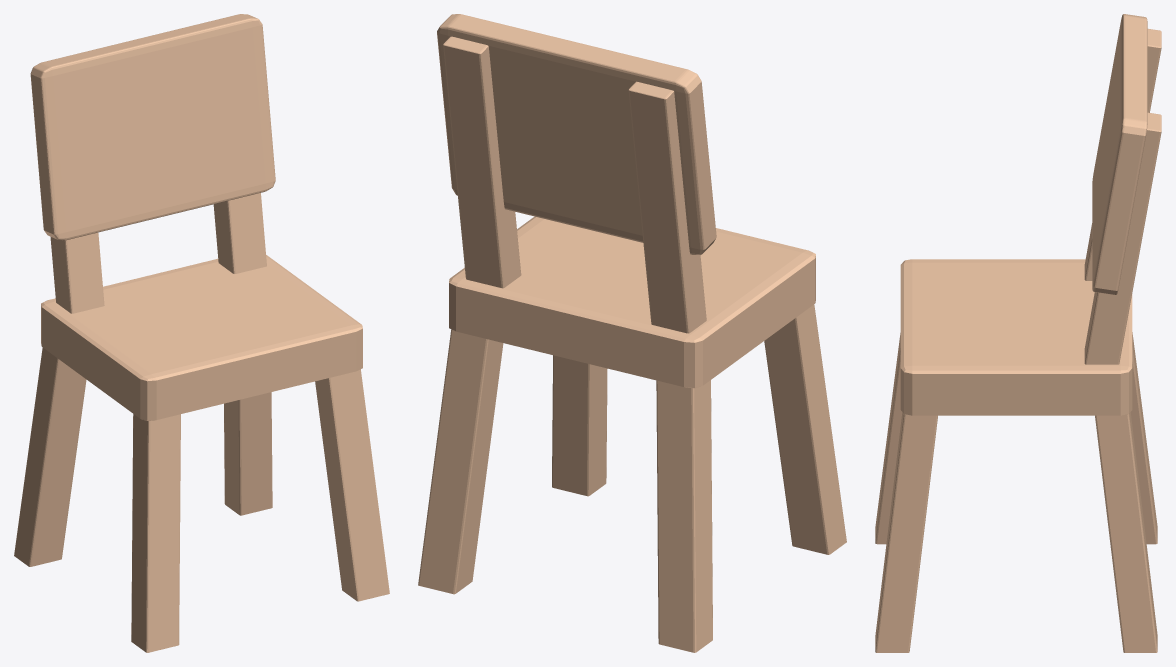
Rendered from Chair.fbx.
3 renders of one model, left to right at view 1: azimuth 30°, elevation 25°; view 2: azimuth 150°, elevation 25°; view 3: azimuth 270°, elevation 25°, orthographic. The views are drawn at different scales.
Visible parts, largest first — view 1: Chair; view 2: Chair; view 3: Chair.
Boxes of the visible parts, x1,y1,x2,y2 form: Chair: (14, 14, 389, 652); Chair: (418, 14, 846, 652); Chair: (875, 14, 1161, 652).
Bounding box in the file's own units: 102 × 197 × 97.78.
